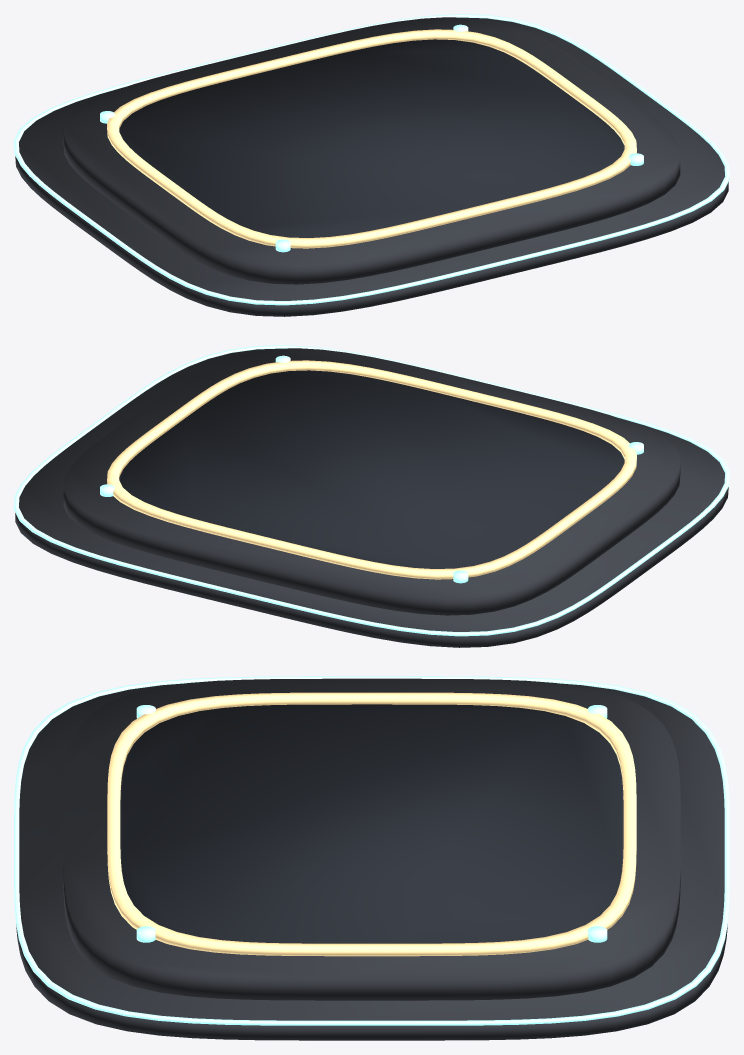
Rendered from mod_01_plaza_base.glb.
3 views of the same model, one above another, from view 1: azimuth 30°, elevation 25°; view 2: azimuth 150°, elevation 25°; view 3: azimuth 270°, elevation 25° (orthographic). The views are drawn at different scales.
Parts seen in each view (by area): view 1: mod_01_plaza_base_QuantizedMesh; view 2: mod_01_plaza_base_QuantizedMesh; view 3: mod_01_plaza_base_QuantizedMesh.
Part boxes in pixels (left/top/right/bottom): mod_01_plaza_base_QuantizedMesh: left=14, top=14, right=729, bottom=316; mod_01_plaza_base_QuantizedMesh: left=14, top=345, right=729, bottom=647; mod_01_plaza_base_QuantizedMesh: left=14, top=676, right=729, bottom=1040.
Size of the model in its own units: 6.32 by 0.41 by 5.52.
